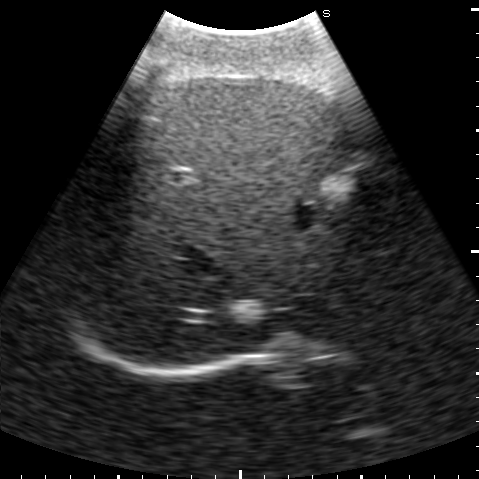S5: (139, 78, 352, 183)
S7: (67, 151, 182, 326)
S8: (122, 160, 362, 361)
Tumor: (227, 299, 266, 327), (318, 173, 354, 202)
